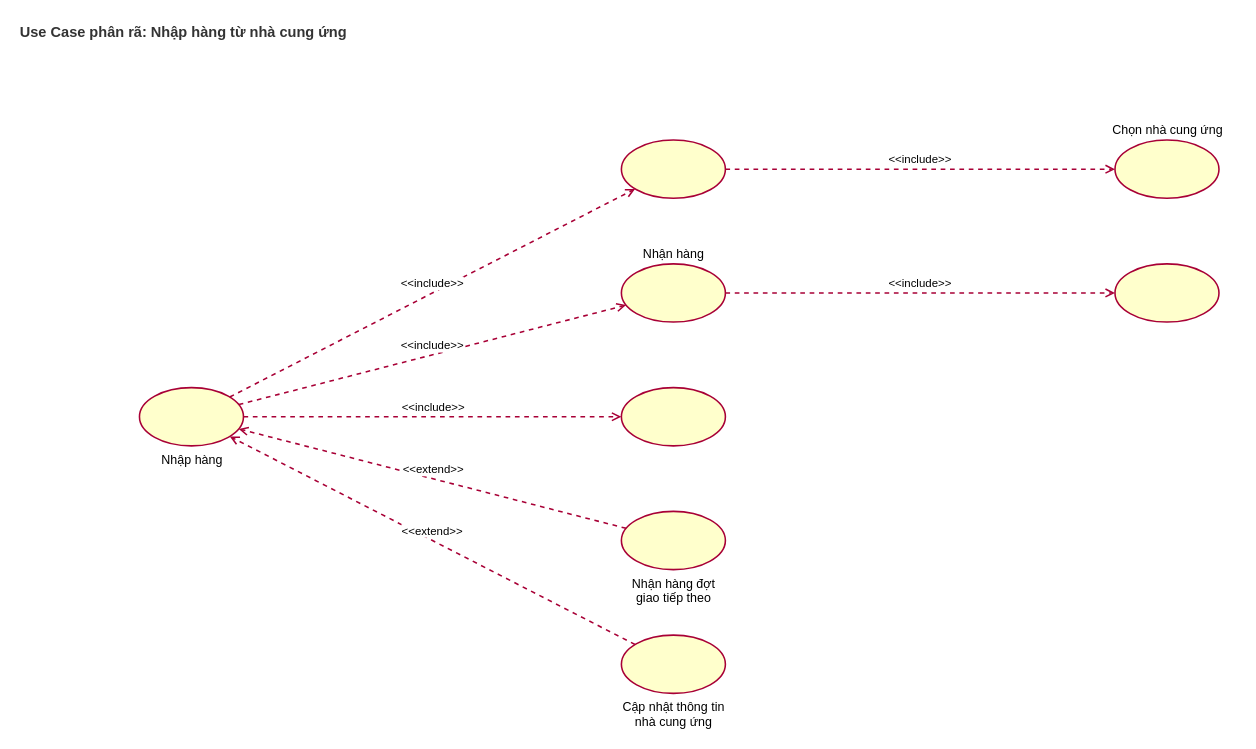
Some shapes in this 1256 by 749 pixel diagram are drawn without their labels. Here are the shapes that lost their labels. From the top down, the centre of each, then its label:
At pixel 673 169: "Lập đơn đặt hàng".
At pixel 1166 292: "Ghi nhận phiếu giao hàng".
At pixel 673 416: "Cập nhật tồn kho".
